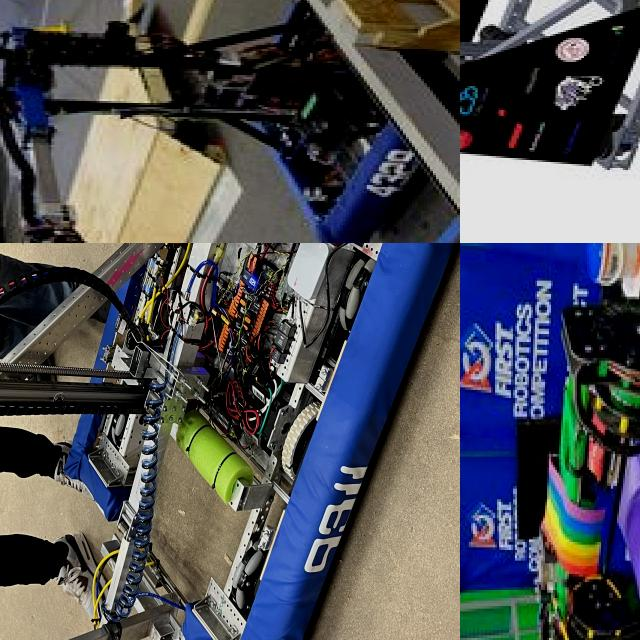FRC-Robots: (0, 243, 460, 640), (0, 0, 460, 243), (463, 243, 640, 640), (460, 0, 640, 200)
